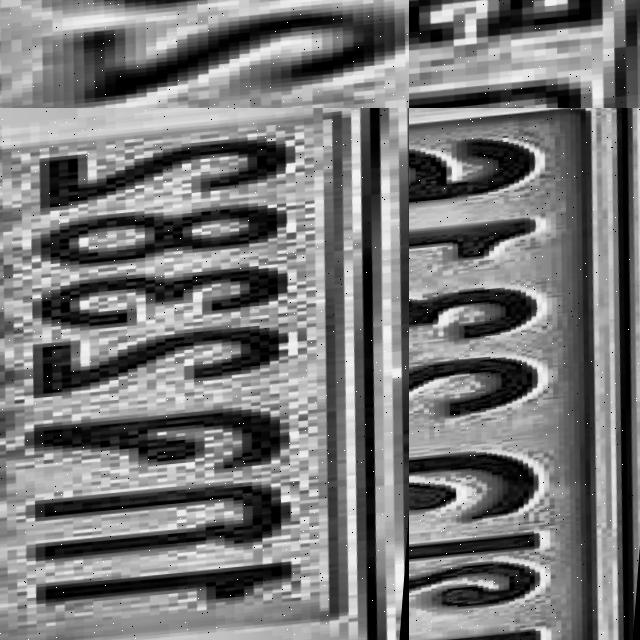license-plate: (0, 108, 409, 640), (409, 108, 640, 640), (0, 0, 409, 108), (409, 0, 640, 108)
